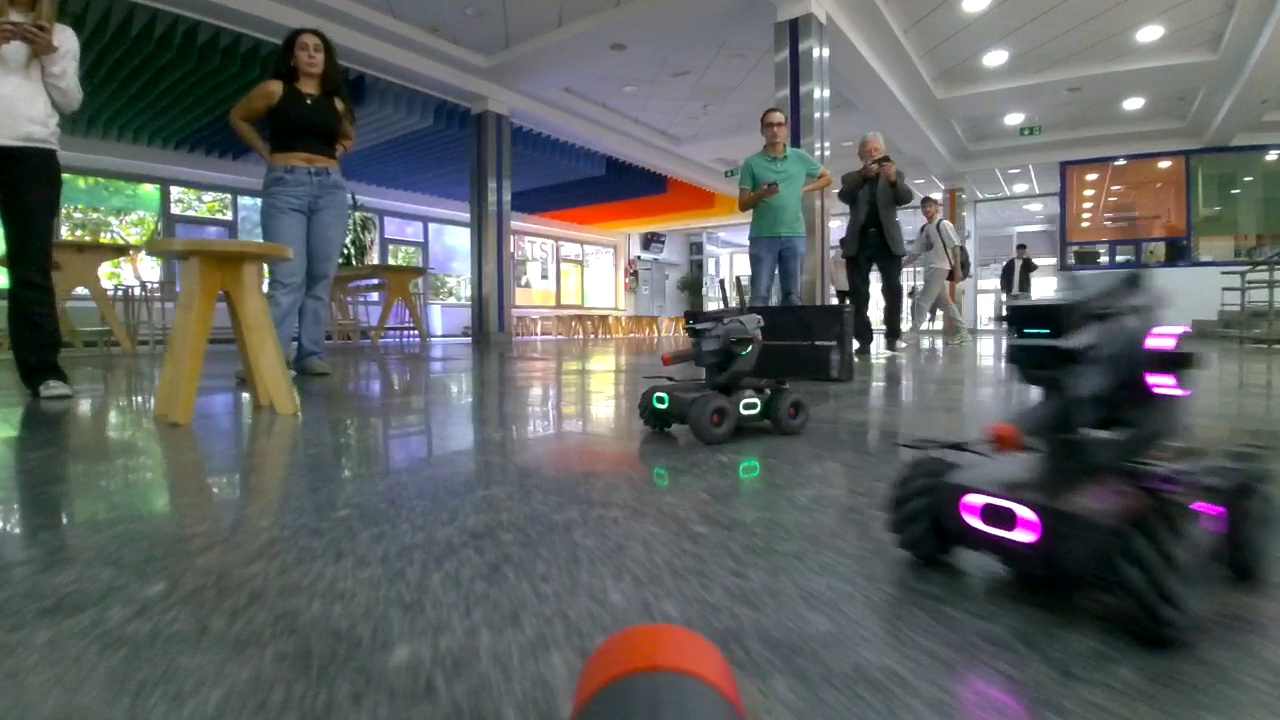robot: (637, 318, 809, 448)
